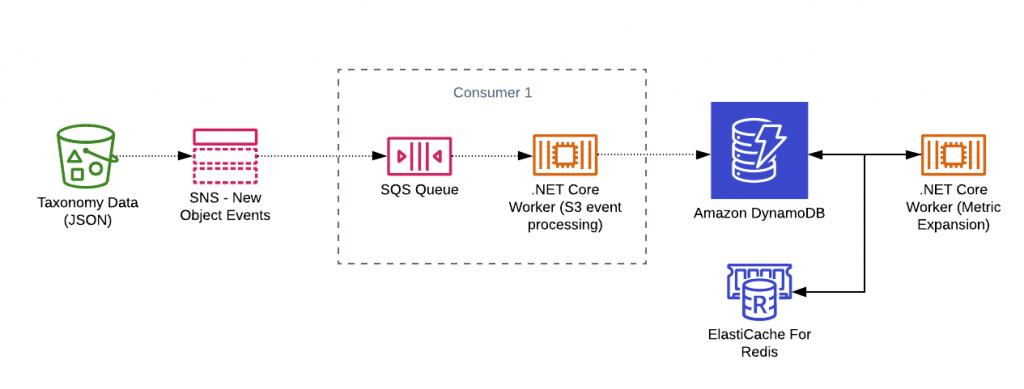Container: (528, 122, 604, 181), (915, 127, 993, 181)
Dynamo DB: (711, 98, 808, 201)
ElastiCache: (723, 257, 797, 326)
S3: (50, 113, 121, 191)
